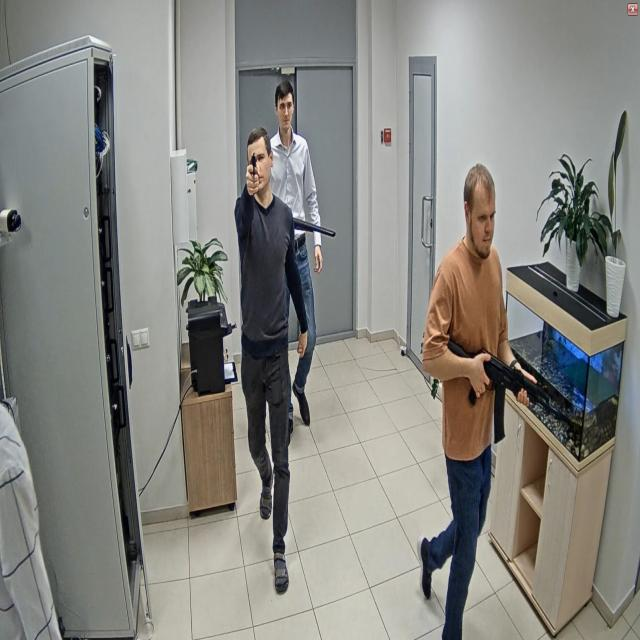-Gun: (449, 340, 573, 444), (294, 217, 336, 236), (251, 153, 256, 175)
